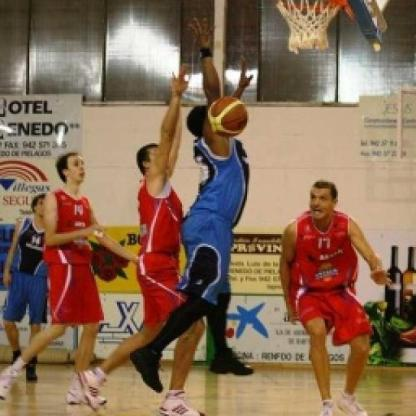basketball: (206, 94, 250, 140)
